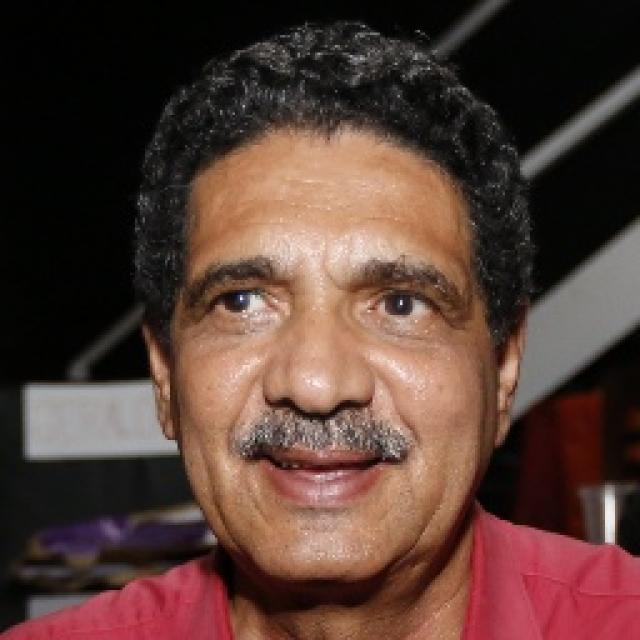earlobe: (138, 318, 178, 442), (492, 302, 525, 448)
